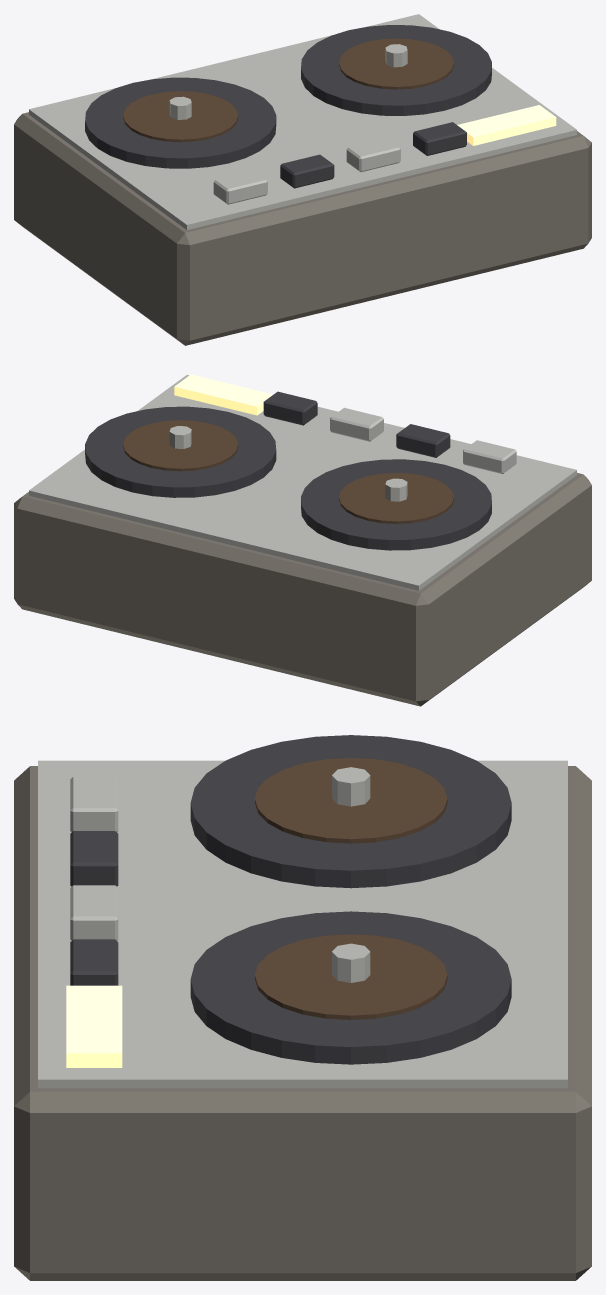
File: recorder.glb
3 renders of one model, top to bottom at view 1: azimuth 30°, elevation 25°; view 2: azimuth 150°, elevation 25°; view 3: azimuth 270°, elevation 25°, orthographic. The views are drawn at different scales.
Visible parts, largest first — view 1: Cube, Cube.001, Cylinder, Cylinder.003, Cylinder.004, Cylinder.001, Cube.006, Cube.003, Cube.004, Cube.002, Cube.005, Cylinder.005 (+1 smaller); view 2: Cube, Cube.001, Cylinder, Cylinder.003, Cylinder.004, Cylinder.001, Cube.006, Cube.005, Cube.003, Cube.004, Cube.002, Cylinder.002 (+1 smaller); view 3: Cube, Cube.001, Cylinder.003, Cylinder, Cylinder.001, Cylinder.004, Cube.006, Cube.003, Cube.002, Cube.004, Cube.005, Cylinder.002 (+1 smaller).
Part boxes in pixels (left/top/right/bottom): Cube: left=14, top=112, right=591, bottom=345; Cube.001: left=29, top=14, right=576, bottom=229; Cylinder: left=85, top=77, right=276, bottom=168; Cylinder.003: left=301, top=25, right=491, bottom=115; Cylinder.004: left=339, top=38, right=453, bottom=89; Cylinder.001: left=123, top=91, right=238, bottom=142; Cube.006: left=457, top=105, right=556, bottom=145; Cube.003: left=280, top=154, right=334, bottom=188; Cube.004: left=346, top=138, right=400, bottom=171; Cube.002: left=213, top=170, right=267, bottom=204; Cube.005: left=413, top=122, right=466, bottom=155; Cylinder.005: left=385, top=44, right=407, bottom=67; Cube: left=14, top=473, right=591, bottom=706; Cube.001: left=29, top=375, right=576, bottom=590; Cylinder: left=301, top=459, right=491, bottom=550; Cylinder.003: left=85, top=406, right=276, bottom=497; Cylinder.004: left=123, top=420, right=238, bottom=471; Cylinder.001: left=339, top=472, right=453, bottom=523; Cube.006: left=174, top=374, right=273, bottom=415; Cube.005: left=263, top=391, right=317, bottom=425; Cube.003: left=396, top=424, right=450, bottom=457; Cube.004: left=330, top=407, right=383, bottom=441; Cube.002: left=463, top=440, right=516, bottom=473; Cylinder.002: left=385, top=478, right=407, bottom=501; Cube: left=14, top=766, right=591, bottom=1280; Cube.001: left=38, top=760, right=567, bottom=1088; Cylinder.003: left=190, top=911, right=511, bottom=1064; Cylinder: left=190, top=735, right=511, bottom=888; Cylinder.001: left=255, top=758, right=447, bottom=843; Cylinder.004: left=255, top=934, right=447, bottom=1019; Cube.006: left=66, top=985, right=122, bottom=1067; Cube.003: left=70, top=831, right=118, bottom=886; Cube.002: left=70, top=776, right=118, bottom=832; Cube.004: left=70, top=885, right=118, bottom=940; Cube.005: left=70, top=939, right=118, bottom=985; Cylinder.002: left=332, top=767, right=370, bottom=806.
Size of the model in its own units: 0.5 by 0.175 by 0.36.
